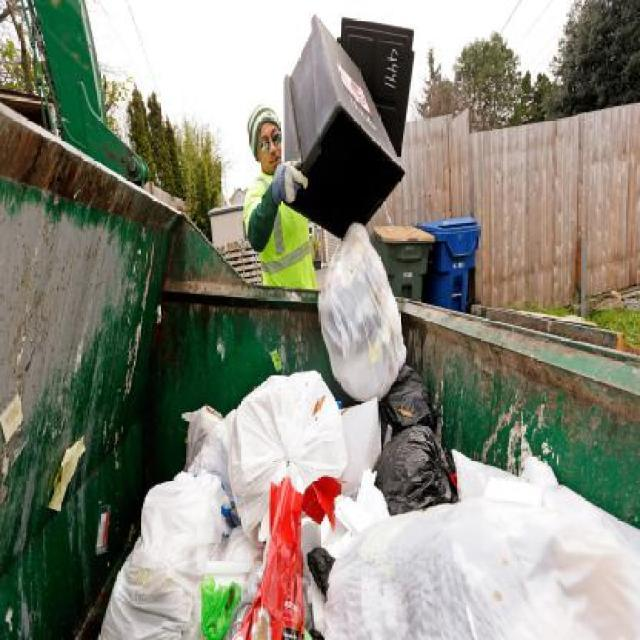garbage container: (276, 19, 410, 241), (374, 221, 439, 307), (432, 213, 485, 312)
